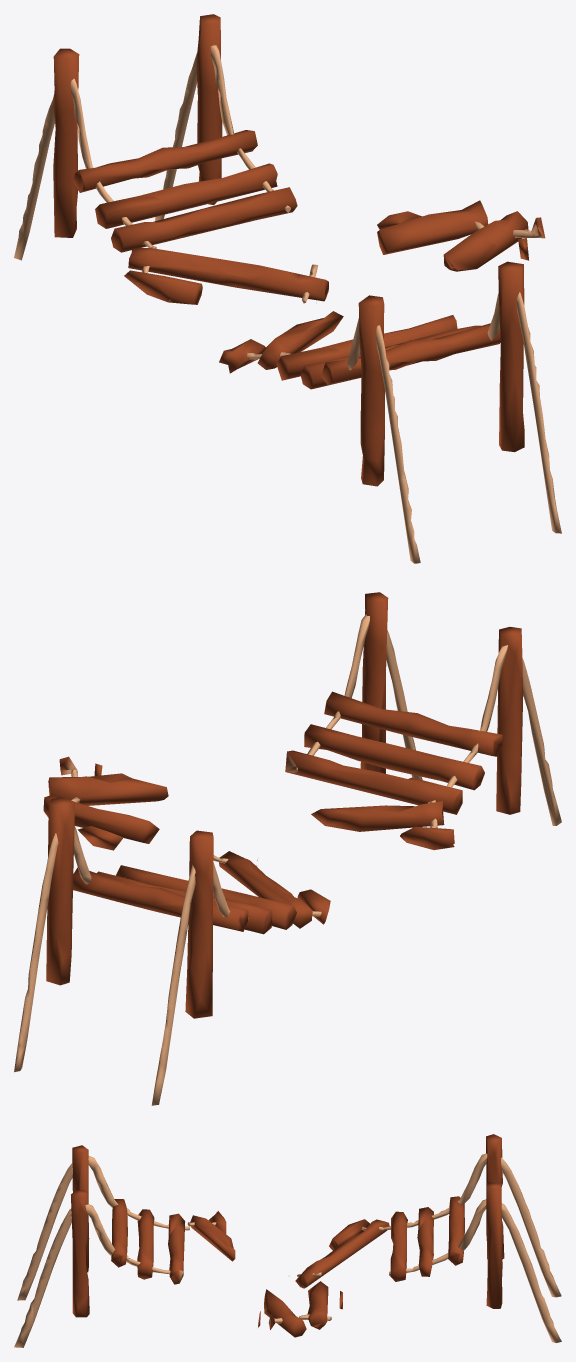
Rendered from pont-brise.glb.
3 renders of one model, top to bottom at view 1: azimuth 30°, elevation 25°; view 2: azimuth 150°, elevation 25°; view 3: azimuth 270°, elevation 25°, orthographic. The views are drawn at different scales.
Visible parts, largest first — view 1: Cylinder; view 2: Cylinder; view 3: Cylinder.
Boxes of the visible parts, x1,y1,x2,y2 form: Cylinder: (14, 14, 561, 563); Cylinder: (14, 592, 561, 1105); Cylinder: (14, 1134, 561, 1347).
Bounding box in the file's own units: 5.6 × 3.67 × 10.99.
